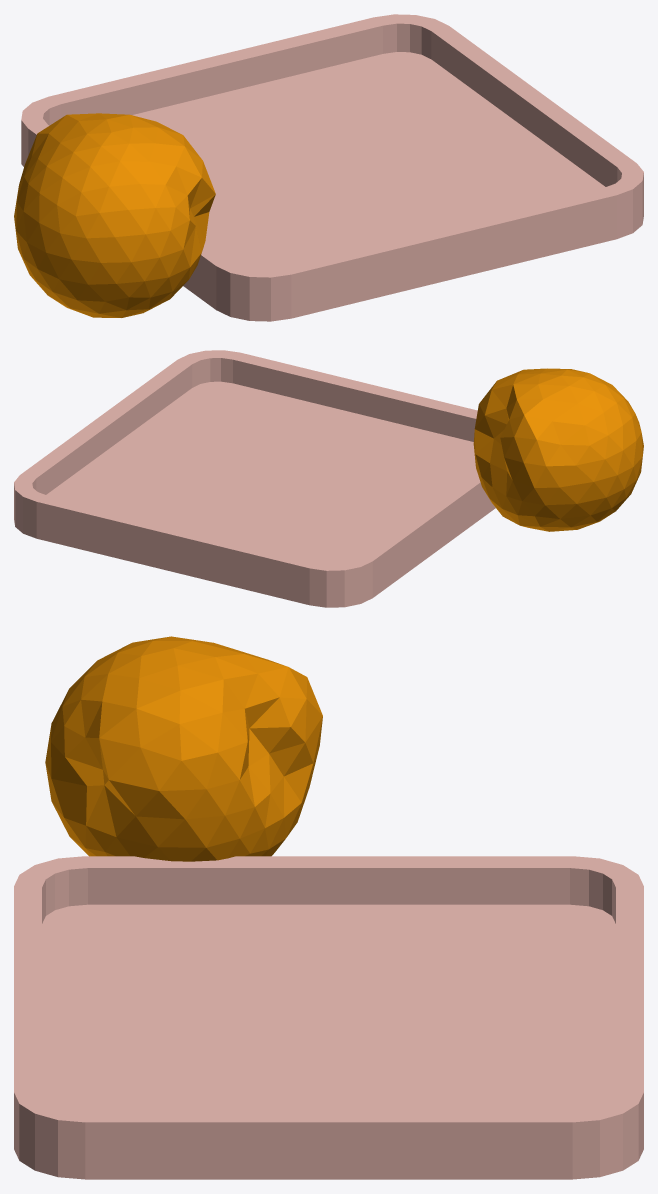
Rendered from materialtest2.glb.
3 views of the same model, one above another, from view 1: azimuth 30°, elevation 25°; view 2: azimuth 150°, elevation 25°; view 3: azimuth 270°, elevation 25° (orthographic). The views are drawn at different scales.
Visible parts, largest first — view 1: Cube, Icosphere; view 2: Cube, Icosphere; view 3: Cube, Icosphere.
Boxes of the visible parts, x1,y1,x2,y2 form: Cube: (21,14,643,321); Icosphere: (14,113,215,317); Cube: (14,350,495,607); Icosphere: (473,368,643,531); Cube: (14,856,643,1179); Icosphere: (45,636,322,861).
Size of the model in its own units: 1.37 by 0.4013 by 1.
